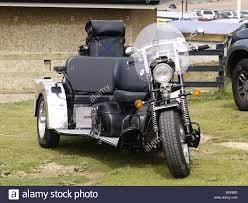motor: (102, 55, 200, 173)
